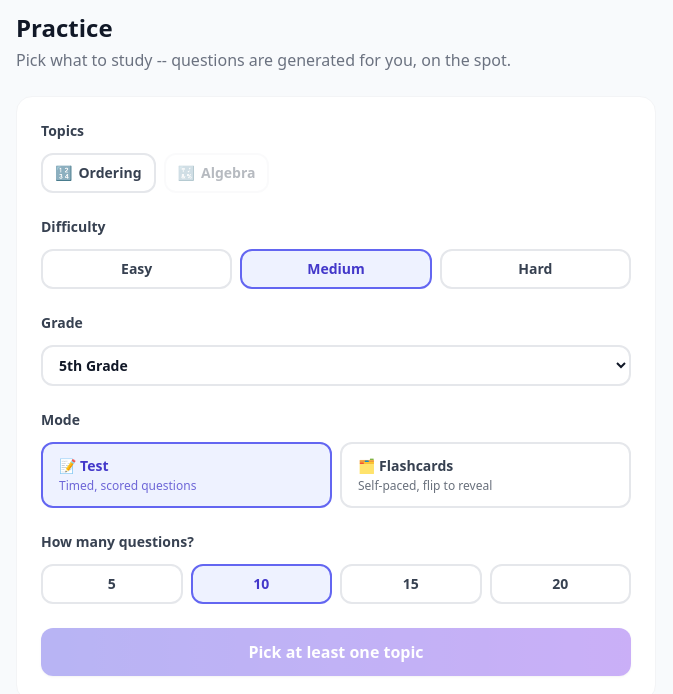
Test: setup › starts a session with the picked topic, difficulty and mode
The width and height of the screenshot is (673, 694).
Check: the text "Pick what to study" is shown, box [16,49,511,71]
Click the button "🔢 ordering" at {"x": 98, "y": 173}, box [41,153,156,193]
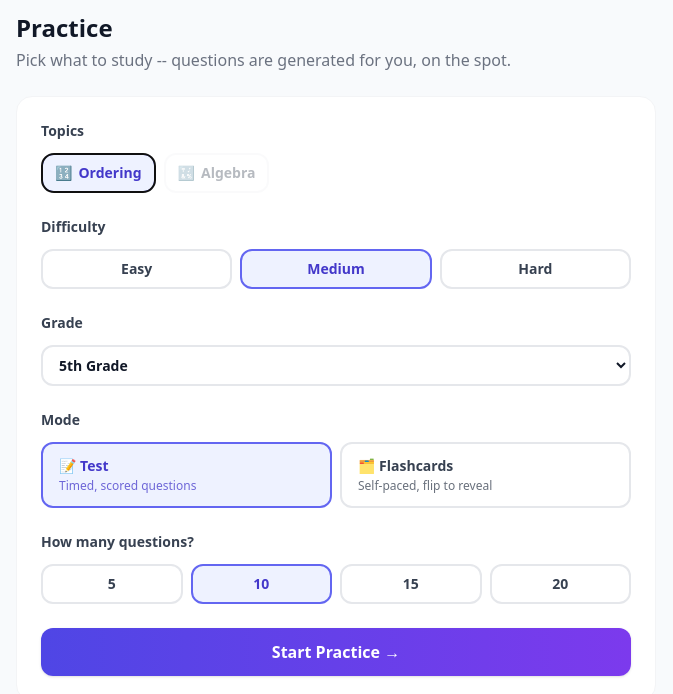
Click the button "Start Practice →" at {"x": 336, "y": 652}, box [41,628,631,676]
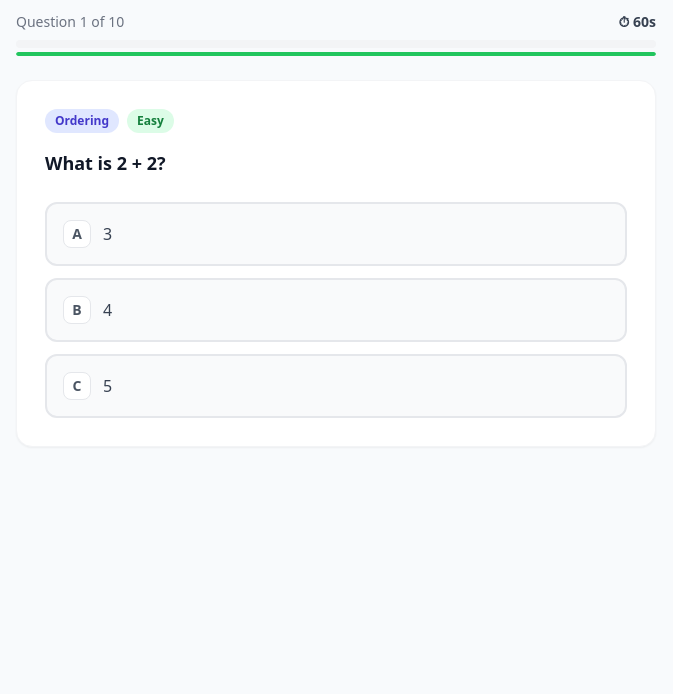
Check: the text "What is 2 + 2?" is shown, box [45,151,166,175]
